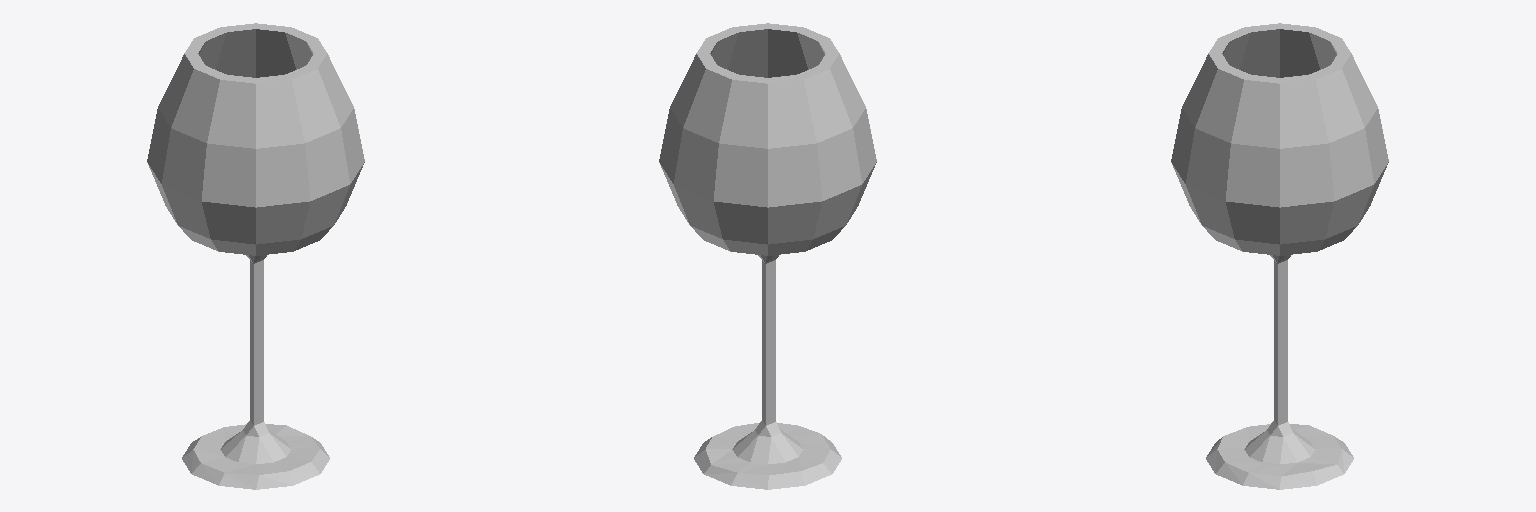
Rendered from glass w..obj.
3 views of the same model, side by side, from view 1: azimuth 30°, elevation 25°; view 2: azimuth 150°, elevation 25°; view 3: azimuth 270°, elevation 25° (orthographic).
Size of the model in its own units: 0.2196 by 0.45 by 0.2196.